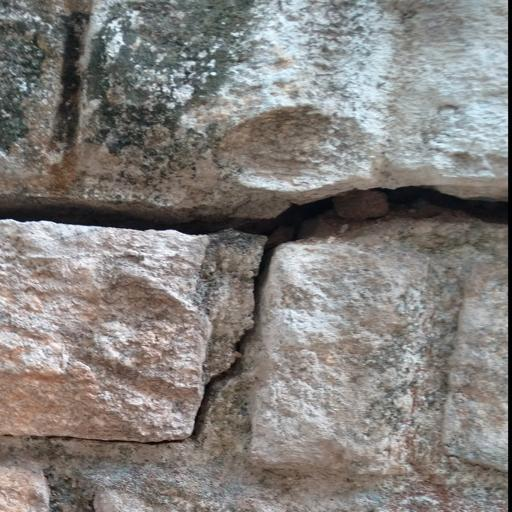major_crack: (0, 147, 506, 469)
